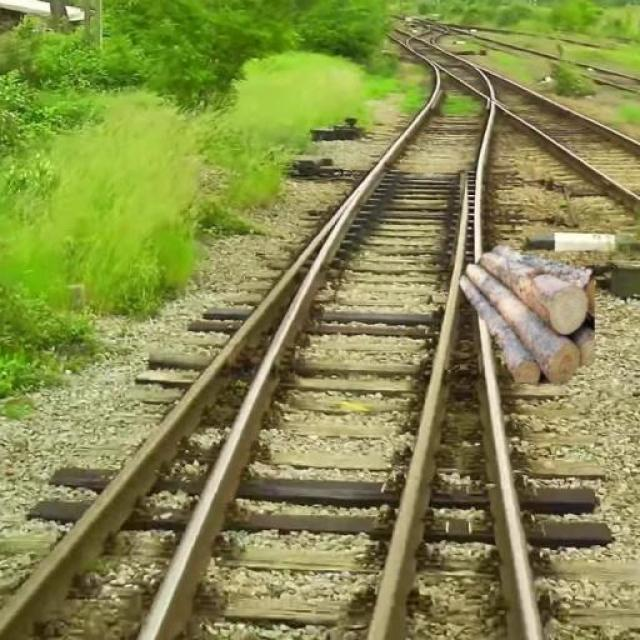Branches: (456, 243, 610, 388)
